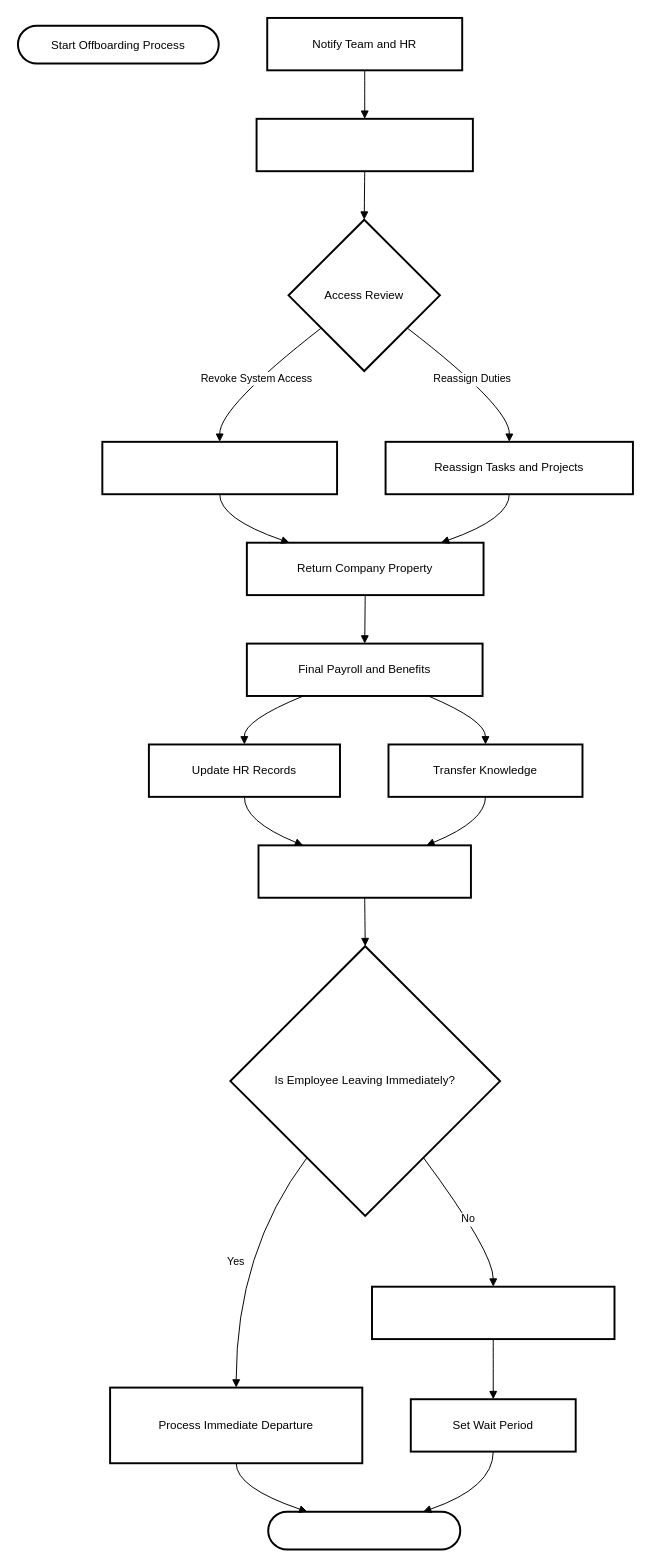
The diagram is 650 pixels wide and 1567 high, and some of its shapes have lost their labels. The centre of each missing label's shape, as x and y in pixels:
"Conduct Exit Interview" belongs at [364,144].
"Conduct Exit Meetings" belongs at [364,871].
"Deactivate User Accounts" belongs at [219,467].
"End Offboarding Process" belongs at [364,1530].
"Set Future Departure Date" belongs at [493,1312].
